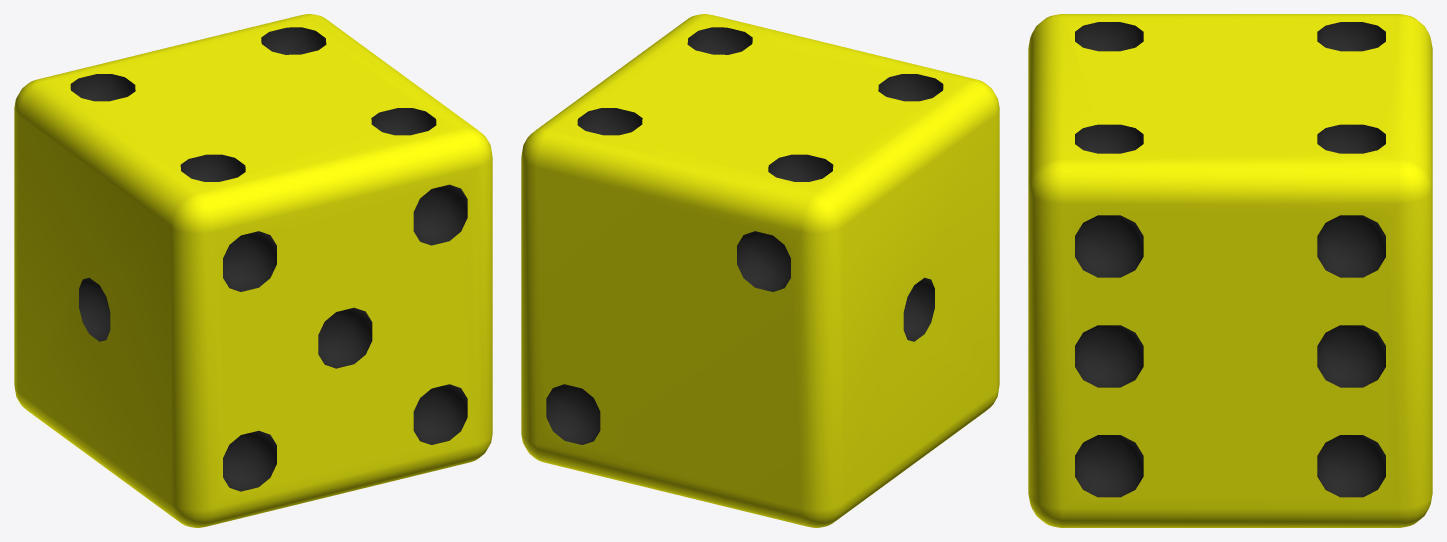
Rendered from dice_yellow.fbx.
The picture shows the model from 3 angles, left to right: view 1: azimuth 30°, elevation 25°; view 2: azimuth 150°, elevation 25°; view 3: azimuth 270°, elevation 25°; orthographic projection. The views are drawn at different scales.
Visible parts, largest first — view 1: dice_yellow; view 2: dice_yellow; view 3: dice_yellow.
Boxes of the visible parts, x1=… form: dice_yellow: x1=14, y1=14, x2=492, y2=527; dice_yellow: x1=521, y1=14, x2=999, y2=527; dice_yellow: x1=1028, y1=14, x2=1432, y2=527.
Size of the model in its own units: 5 by 5 by 5.
1 material, 1 textured.
